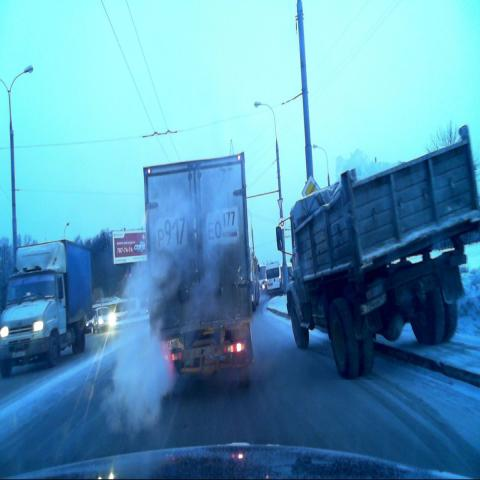2_2: (302, 175, 320, 207)
